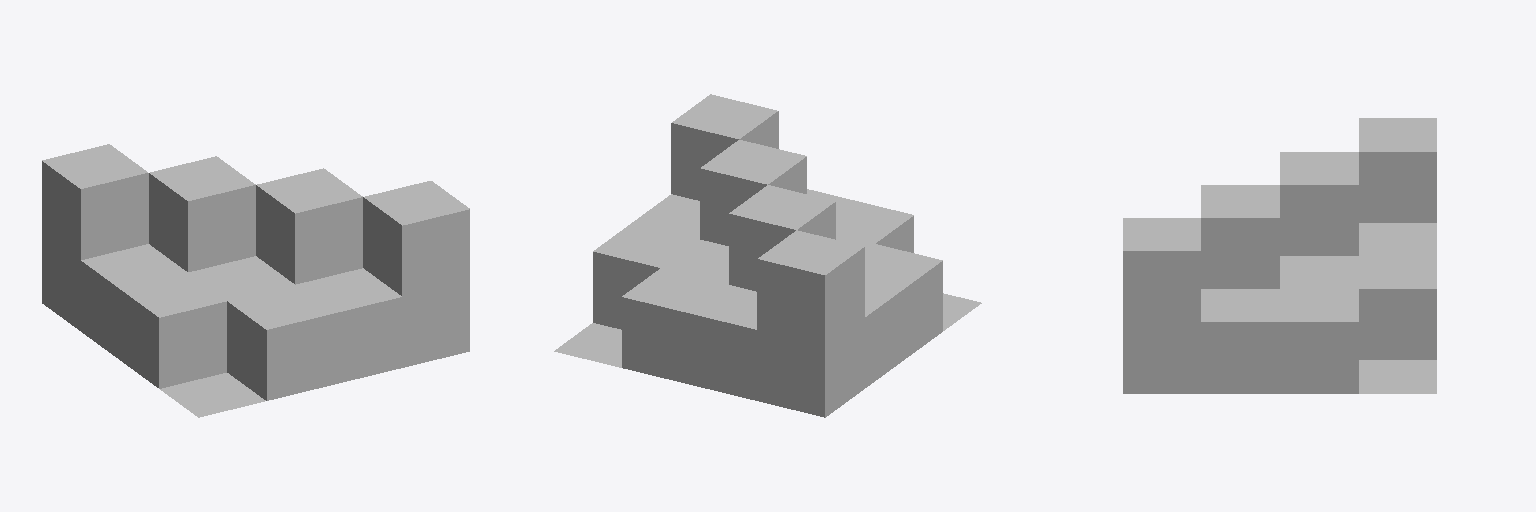
3 views of the same model, side by side, from view 1: azimuth 30°, elevation 25°; view 2: azimuth 150°, elevation 25°; view 3: azimuth 270°, elevation 25° (orthographic).
Visible parts, largest first — view 1: Object(4,4)[length_2], Object(1,1)[length_2], Object(2,4)[length_1], Object(1,3)[length_1], Object(2,2)[length_2], Object(3,3)[length_2], Object(3,4)[length_1], Object(1,2)[length_1], Object(2,3)[length_1], Object(1,4)[length_0]; view 2: Object(1,1)[length_2], Object(3,1)[length_1], Object(2,1)[length_1], Object(4,4)[length_2], Object(3,3)[length_2], Object(2,2)[length_2], Object(4,2)[length_1], Object(1,3)[length_1], Object(1,2)[length_1], Object(2,4)[length_1], Object(4,1)[length_0], Object(3,2)[length_1] (+2 smaller); view 3: Object(4,4)[length_2], Object(4,2)[length_1], Object(4,3)[length_1], Object(2,2)[length_2], Object(3,3)[length_2], Object(1,1)[length_2], Object(3,1)[length_1], Object(4,1)[length_0], Object(3,2)[length_1], Object(2,1)[length_1].
Part boxes in pixels (bbox=[...]): Object(4,4)[length_2]: bbox=[363, 181, 469, 367]; Object(1,1)[length_2]: bbox=[42, 144, 148, 330]; Object(2,4)[length_1]: bbox=[227, 285, 334, 400]; Object(1,3)[length_1]: bbox=[120, 273, 226, 388]; Object(2,2)[length_2]: bbox=[149, 156, 255, 271]; Object(3,3)[length_2]: bbox=[256, 168, 362, 284]; Object(3,4)[length_1]: bbox=[296, 268, 401, 383]; Object(1,2)[length_1]: bbox=[81, 244, 187, 359]; Object(2,3)[length_1]: bbox=[188, 256, 294, 300]; Object(1,4)[length_0]: bbox=[160, 373, 265, 417]; Object(1,1)[length_2]: bbox=[757, 230, 864, 417]; Object(3,1)[length_1]: bbox=[622, 268, 727, 383]; Object(2,1)[length_1]: bbox=[689, 285, 756, 400]; Object(4,4)[length_2]: bbox=[671, 94, 778, 200]; Object(3,3)[length_2]: bbox=[700, 140, 806, 245]; Object(2,2)[length_2]: bbox=[729, 185, 835, 291]; Object(4,2)[length_1]: bbox=[593, 223, 699, 329]; Object(1,3)[length_1]: bbox=[865, 244, 942, 359]; Object(1,2)[length_1]: bbox=[865, 280, 903, 387]; Object(2,4)[length_1]: bbox=[836, 199, 913, 252]; Object(4,1)[length_0]: bbox=[554, 323, 621, 367]; Object(3,2)[length_1]: bbox=[662, 240, 728, 284]; Object(4,4)[length_2]: bbox=[1123, 218, 1200, 393]; Object(4,2)[length_1]: bbox=[1280, 289, 1358, 393]; Object(4,3)[length_1]: bbox=[1201, 289, 1279, 393]; Object(2,2)[length_2]: bbox=[1280, 152, 1358, 255]; Object(3,3)[length_2]: bbox=[1201, 185, 1279, 288]; Object(1,1)[length_2]: bbox=[1359, 118, 1436, 222]; Object(3,1)[length_1]: bbox=[1359, 256, 1436, 359]; Object(4,1)[length_0]: bbox=[1359, 360, 1436, 393]; Object(3,2)[length_1]: bbox=[1280, 256, 1358, 288]; Object(2,1)[length_1]: bbox=[1359, 223, 1436, 255].
Bounding box in the file's own units: 4 × 2 × 4.